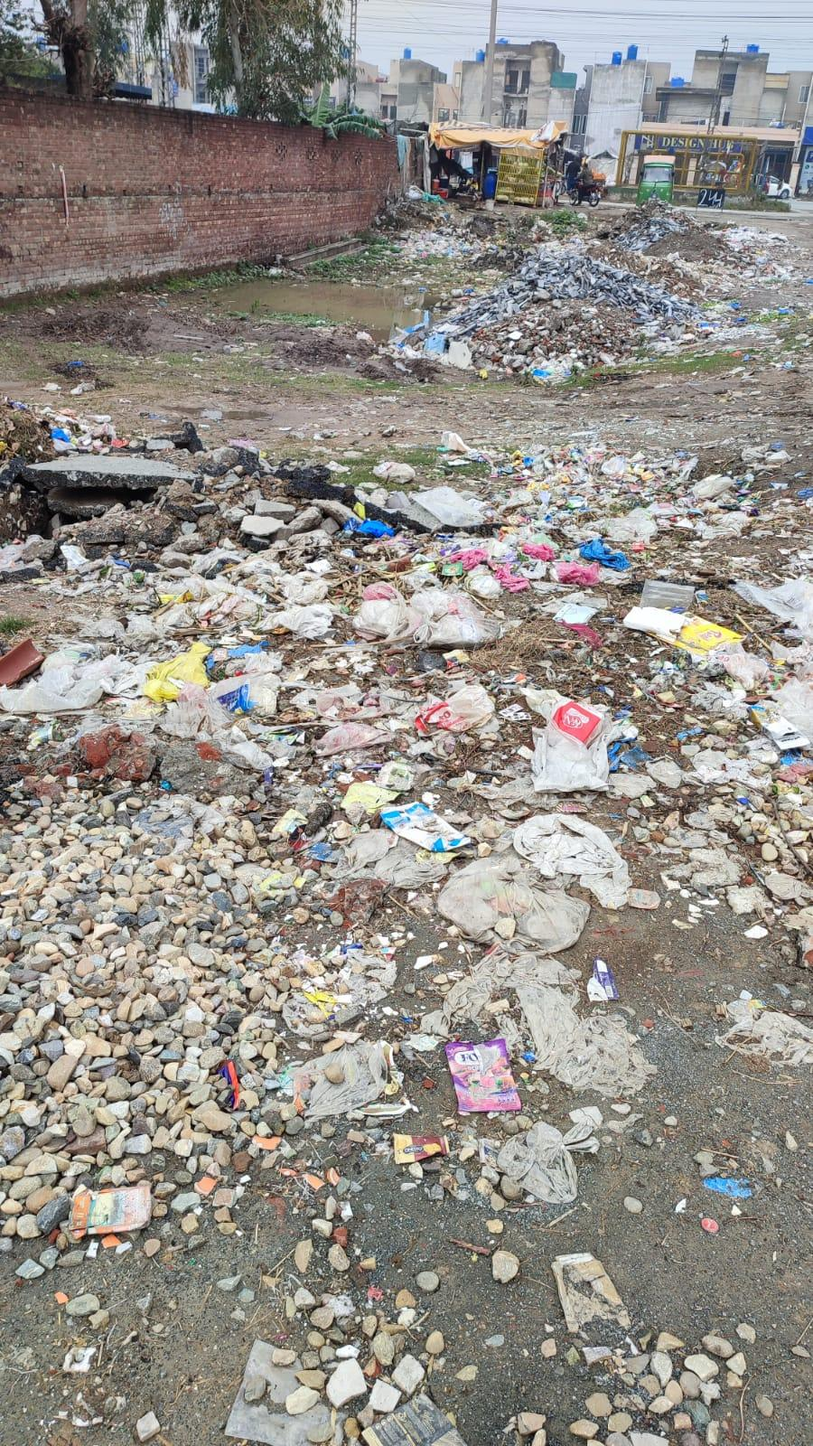garbage: (37, 368, 791, 933), (402, 208, 786, 379)
